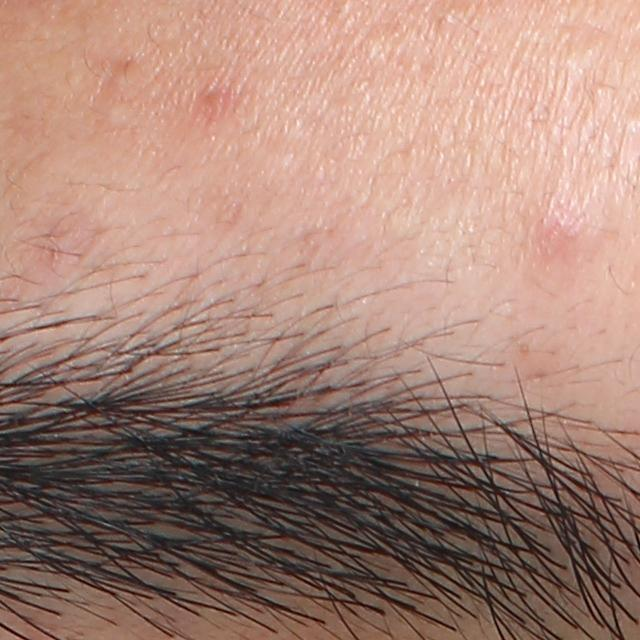comedo: (96, 101, 130, 132)
papule: (532, 204, 587, 257)
